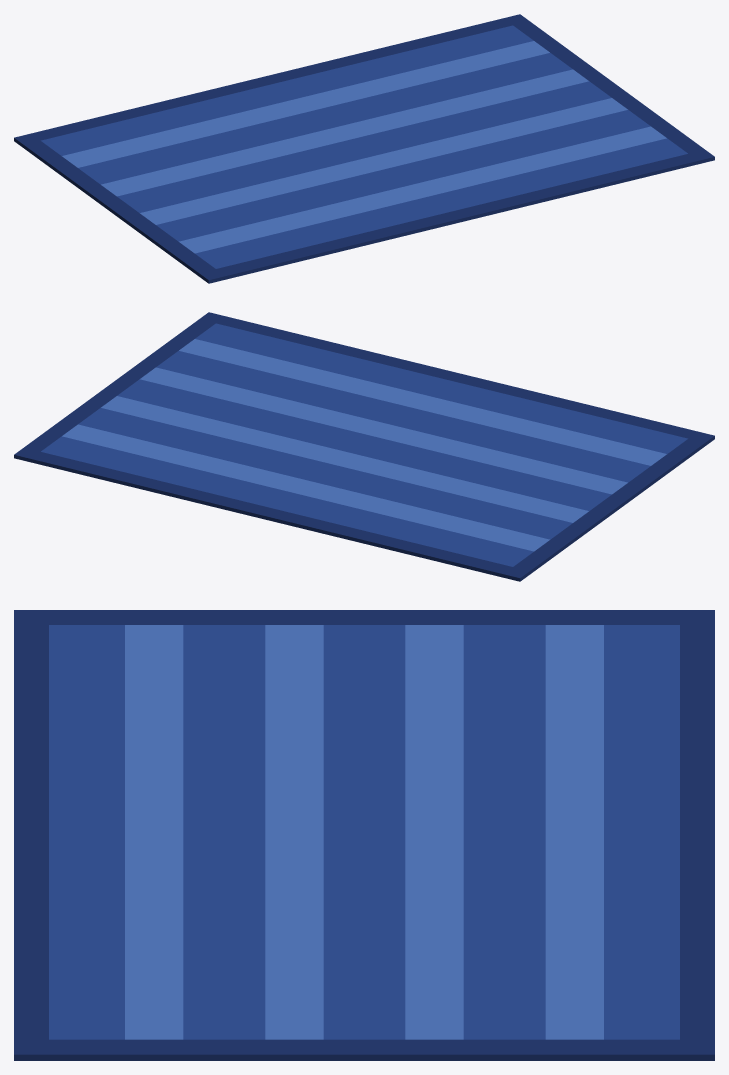
The model's file is Prop_RugBlue.fbx.
3 views of the same model, one above another, from view 1: azimuth 30°, elevation 25°; view 2: azimuth 150°, elevation 25°; view 3: azimuth 270°, elevation 25° (orthographic). The views are drawn at different scales.
Visible parts, largest first — view 1: Prop_RugBlue; view 2: Prop_RugBlue; view 3: Prop_RugBlue.
Part boxes in pixels (x1,y1,x2,y2): Prop_RugBlue: [14, 14, 714, 283]; Prop_RugBlue: [14, 312, 714, 581]; Prop_RugBlue: [14, 610, 714, 1060].
Bounding box in the file's own units: 1.8 × 0.012 × 1.2.
